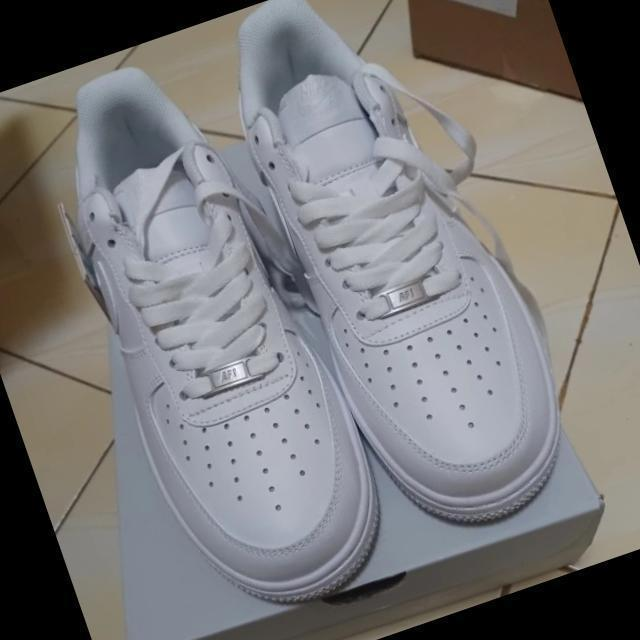nike original air force: (0, 31, 405, 640), (197, 0, 589, 550)
